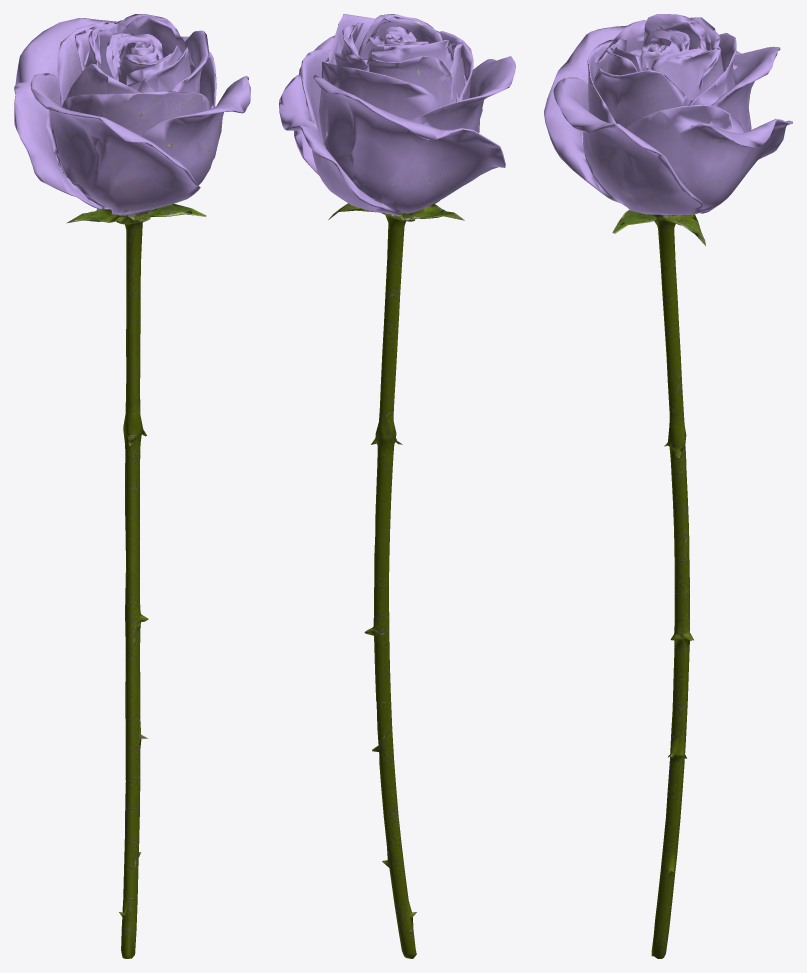
File: lavender_rose.glb
The picture shows the model from 3 angles, left to right: view 1: azimuth 30°, elevation 25°; view 2: azimuth 150°, elevation 25°; view 3: azimuth 270°, elevation 25°; orthographic projection.
Size of the model in its own units: 0.4512 by 1.9 by 0.4611.
Materials: 1 (1 with a texture image).
